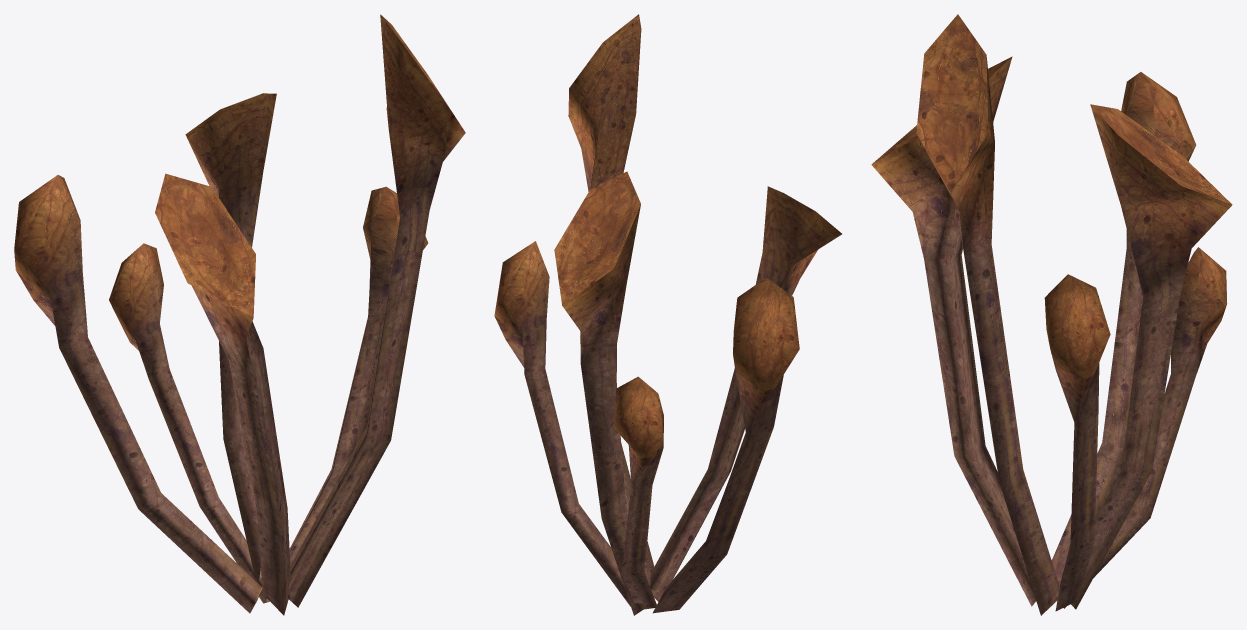
Rendered from Shroom_Plant2_3_L2.fbx.
3 views of the same model, side by side, from view 1: azimuth 30°, elevation 25°; view 2: azimuth 150°, elevation 25°; view 3: azimuth 270°, elevation 25° (orthographic). The views are drawn at different scales.
Parts seen in each view (by area): view 1: polySurface292; view 2: polySurface292; view 3: polySurface292.
Boxes of the visible parts, x1,y1,x2,y2 form: polySurface292: (14, 14, 465, 615); polySurface292: (494, 14, 841, 615); polySurface292: (871, 14, 1232, 615).
Size of the model in its own units: 62.01 by 98.42 by 51.79.
